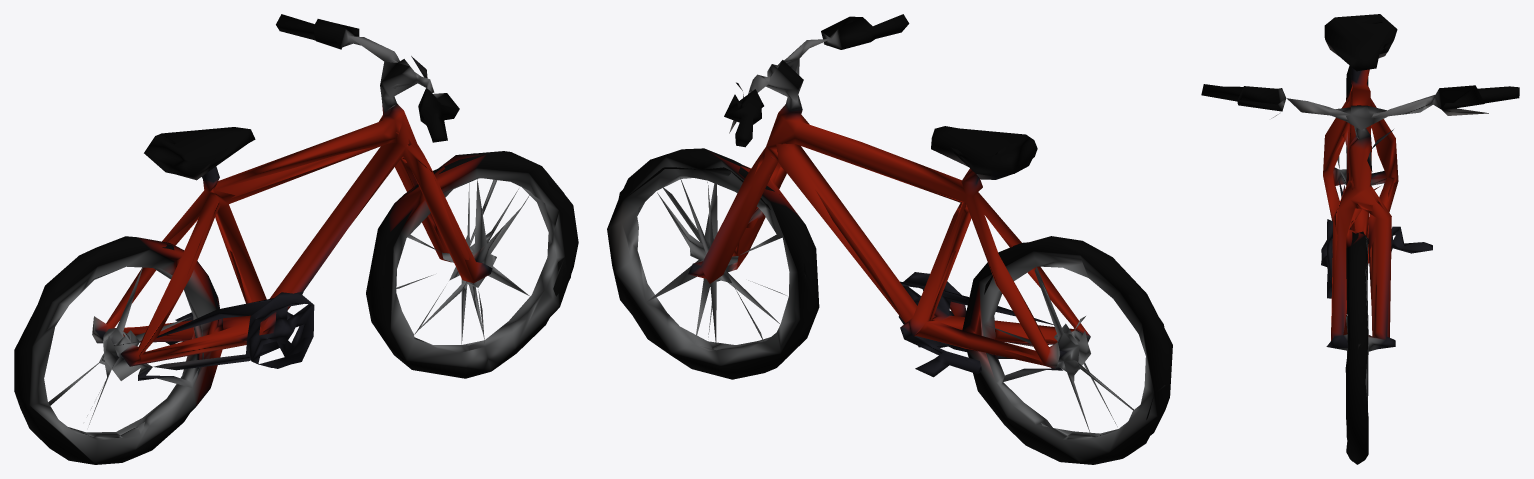
Rendered from gen3d-bicycle-lod1.glb.
3 views of the same model, side by side, from view 1: azimuth 30°, elevation 25°; view 2: azimuth 150°, elevation 25°; view 3: azimuth 270°, elevation 25° (orthographic). The views are drawn at different scales.
Visible parts, largest first — view 1: part_0; view 2: part_0; view 3: part_0.
Part boxes in pixels (x1,y1,x2,y2): part_0: (14, 14, 578, 464); part_0: (607, 14, 1172, 464); part_0: (1201, 14, 1519, 464).
Bounding box in the file's own units: 1.74 × 0.9956 × 0.8827.
